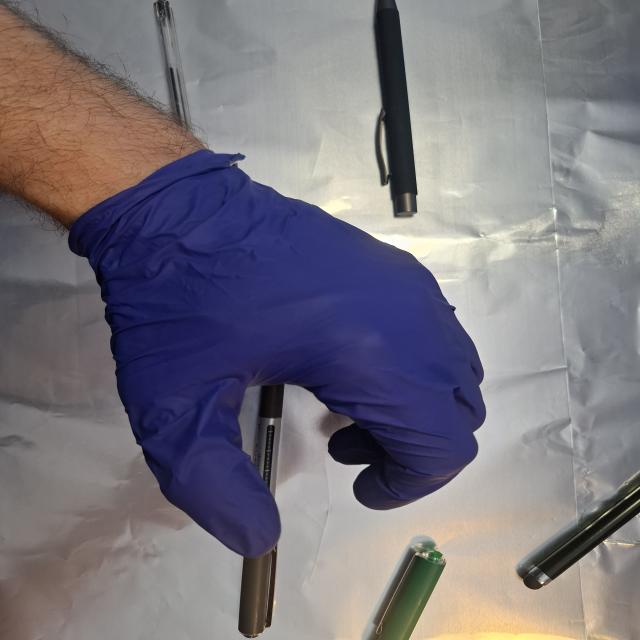glove_on: (67, 150, 491, 561)
